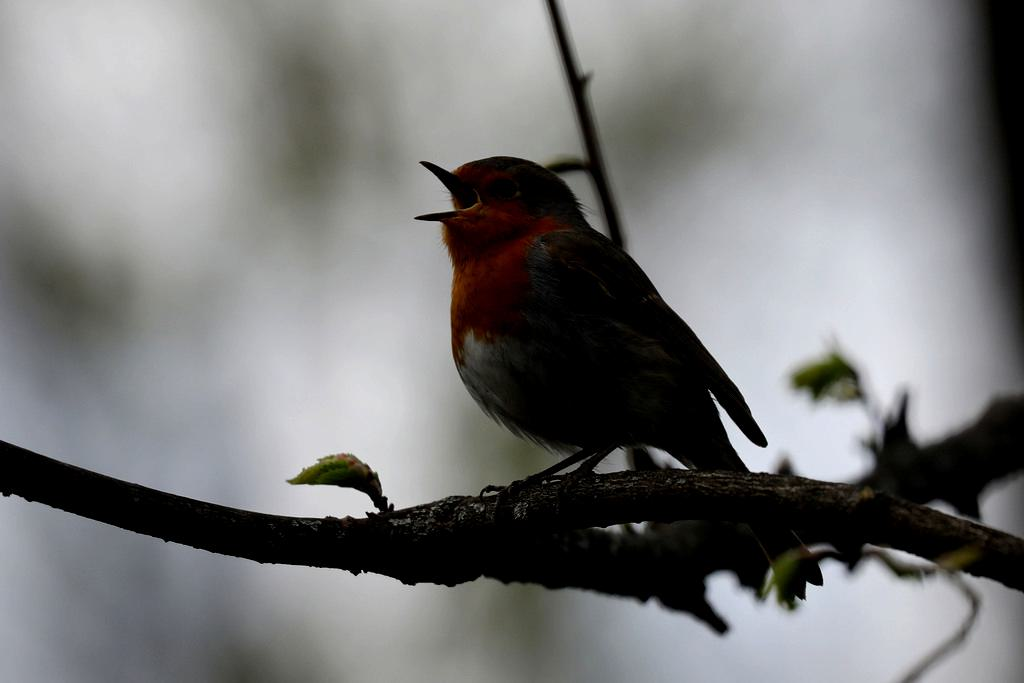ErithacusRubecula: (412, 155, 768, 532)
